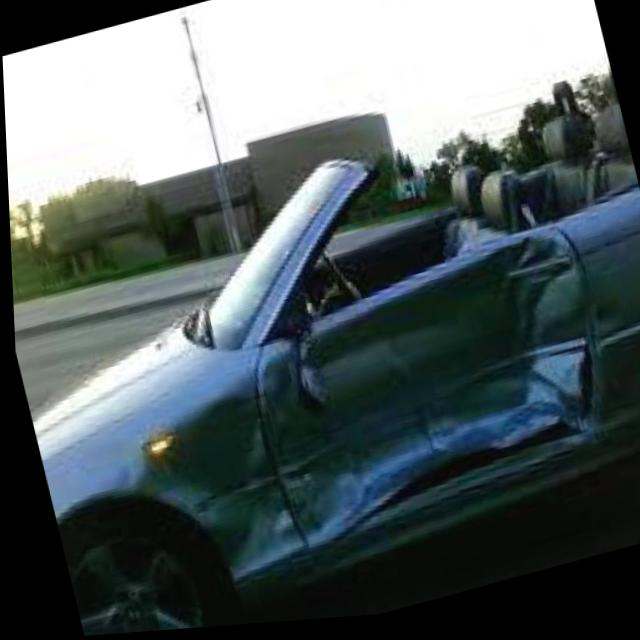Car-Damage: (85, 210, 640, 628)
